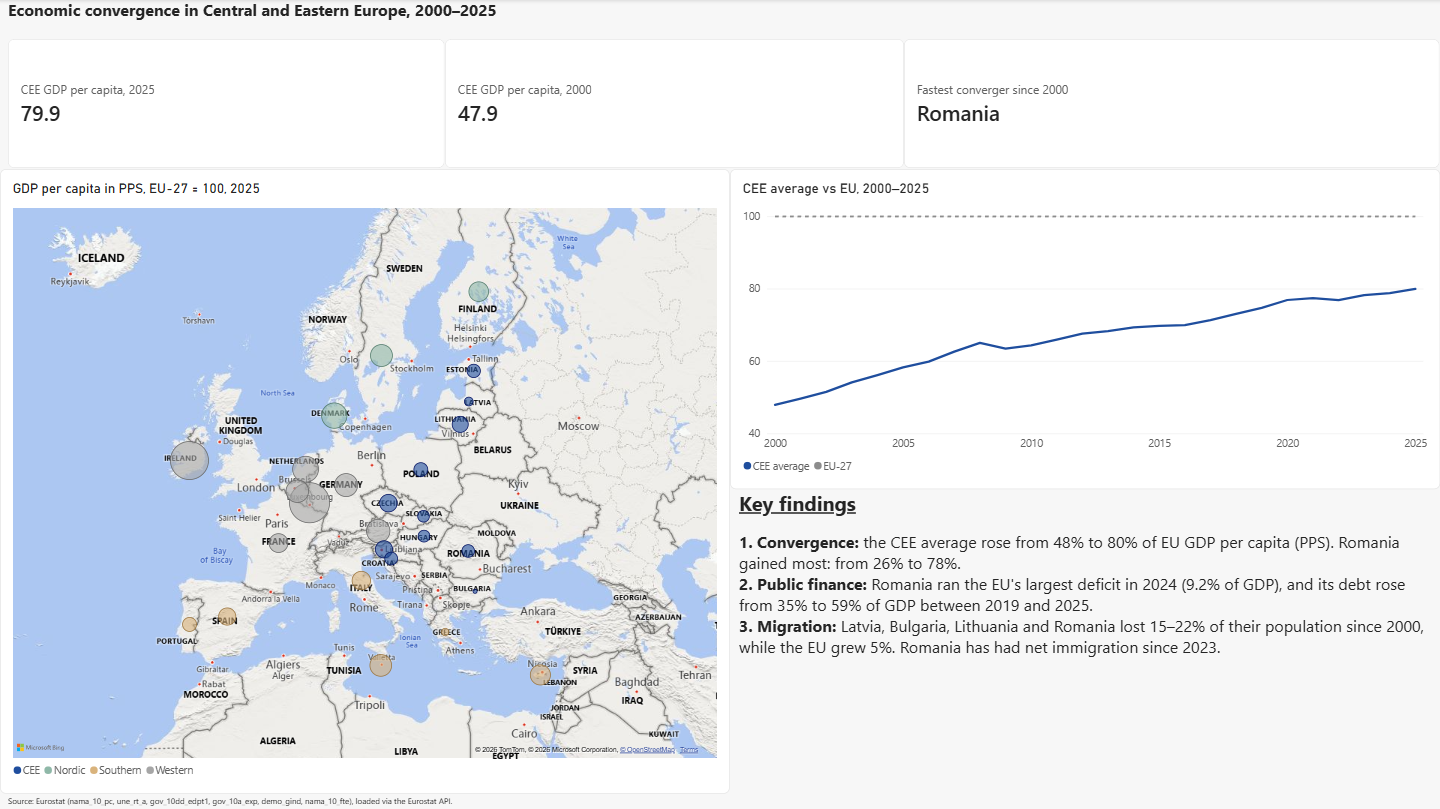

What the dashboard file says about the page in this screenshot:
{"tool":"powerbi","page":{"name":"Overview","canvas":[1920,1080],"ordinal":0},"visuals":[{"type":"textbox","box":[10.9,0,741.8,279.3],"z":0},{"type":"cardVisual","title":"CEE GDP per capita","fields":{"Data":["FactGDP.Latest CEE GDP Index"]},"box":[10.8,53.9,582.5,172.6],"z":1000},{"type":"cardVisual","fields":{"Data":["FactGDP.CEE GDP Index"]},"box":[593.3,53.9,612.1,172.6],"z":2000},{"type":"cardVisual","fields":{"Data":["FactGDP.Fastest Converger"]},"box":[1205.4,53.9,714.6,172.6],"z":3000},{"type":"map","title":"GDP per capita in PPS, EU-27 = 100, 2025","fields":{"Category":["DimCountry.Country"],"Series":["DimCountry.Region"],"Size":["FactGDP.Latest GDP Index"]},"box":[0,226.1,973.1,833.1],"z":4000},{"type":"lineChart","title":"CEE average vs EU, 2000–2025","fields":{"Category":["DimYear.Year"],"Y":["FactGDP.CEE GDP Index","FactGDP.EU GDP Index"]},"box":[973.1,226.1,946.9,427.5],"z":5000},{"type":"textbox","box":[984.8,653.6,935.2,405.6],"z":6000},{"type":"textbox","box":[10.2,1059.2,1909.8,20.4],"z":6001}]}

Visuals, with their boxes in screenshot pixels (x1, y1, x2, y2), scaled from the page's 1920x1080 canvas onto the 1440x809 screenshot:
textbox: <box>8,0,565,209</box>
"CEE GDP per capita" cardVisual: <box>8,40,445,170</box>
cardVisual - FactGDP.CEE GDP Index: <box>445,40,904,170</box>
cardVisual - FactGDP.Fastest Converger: <box>904,40,1439,170</box>
"GDP per capita in PPS, EU-27 = 100, 2025" map: <box>0,169,730,793</box>
"CEE average vs EU, 2000–2025" lineChart: <box>730,169,1439,490</box>
textbox: <box>739,490,1439,793</box>
textbox: <box>8,793,1439,808</box>
